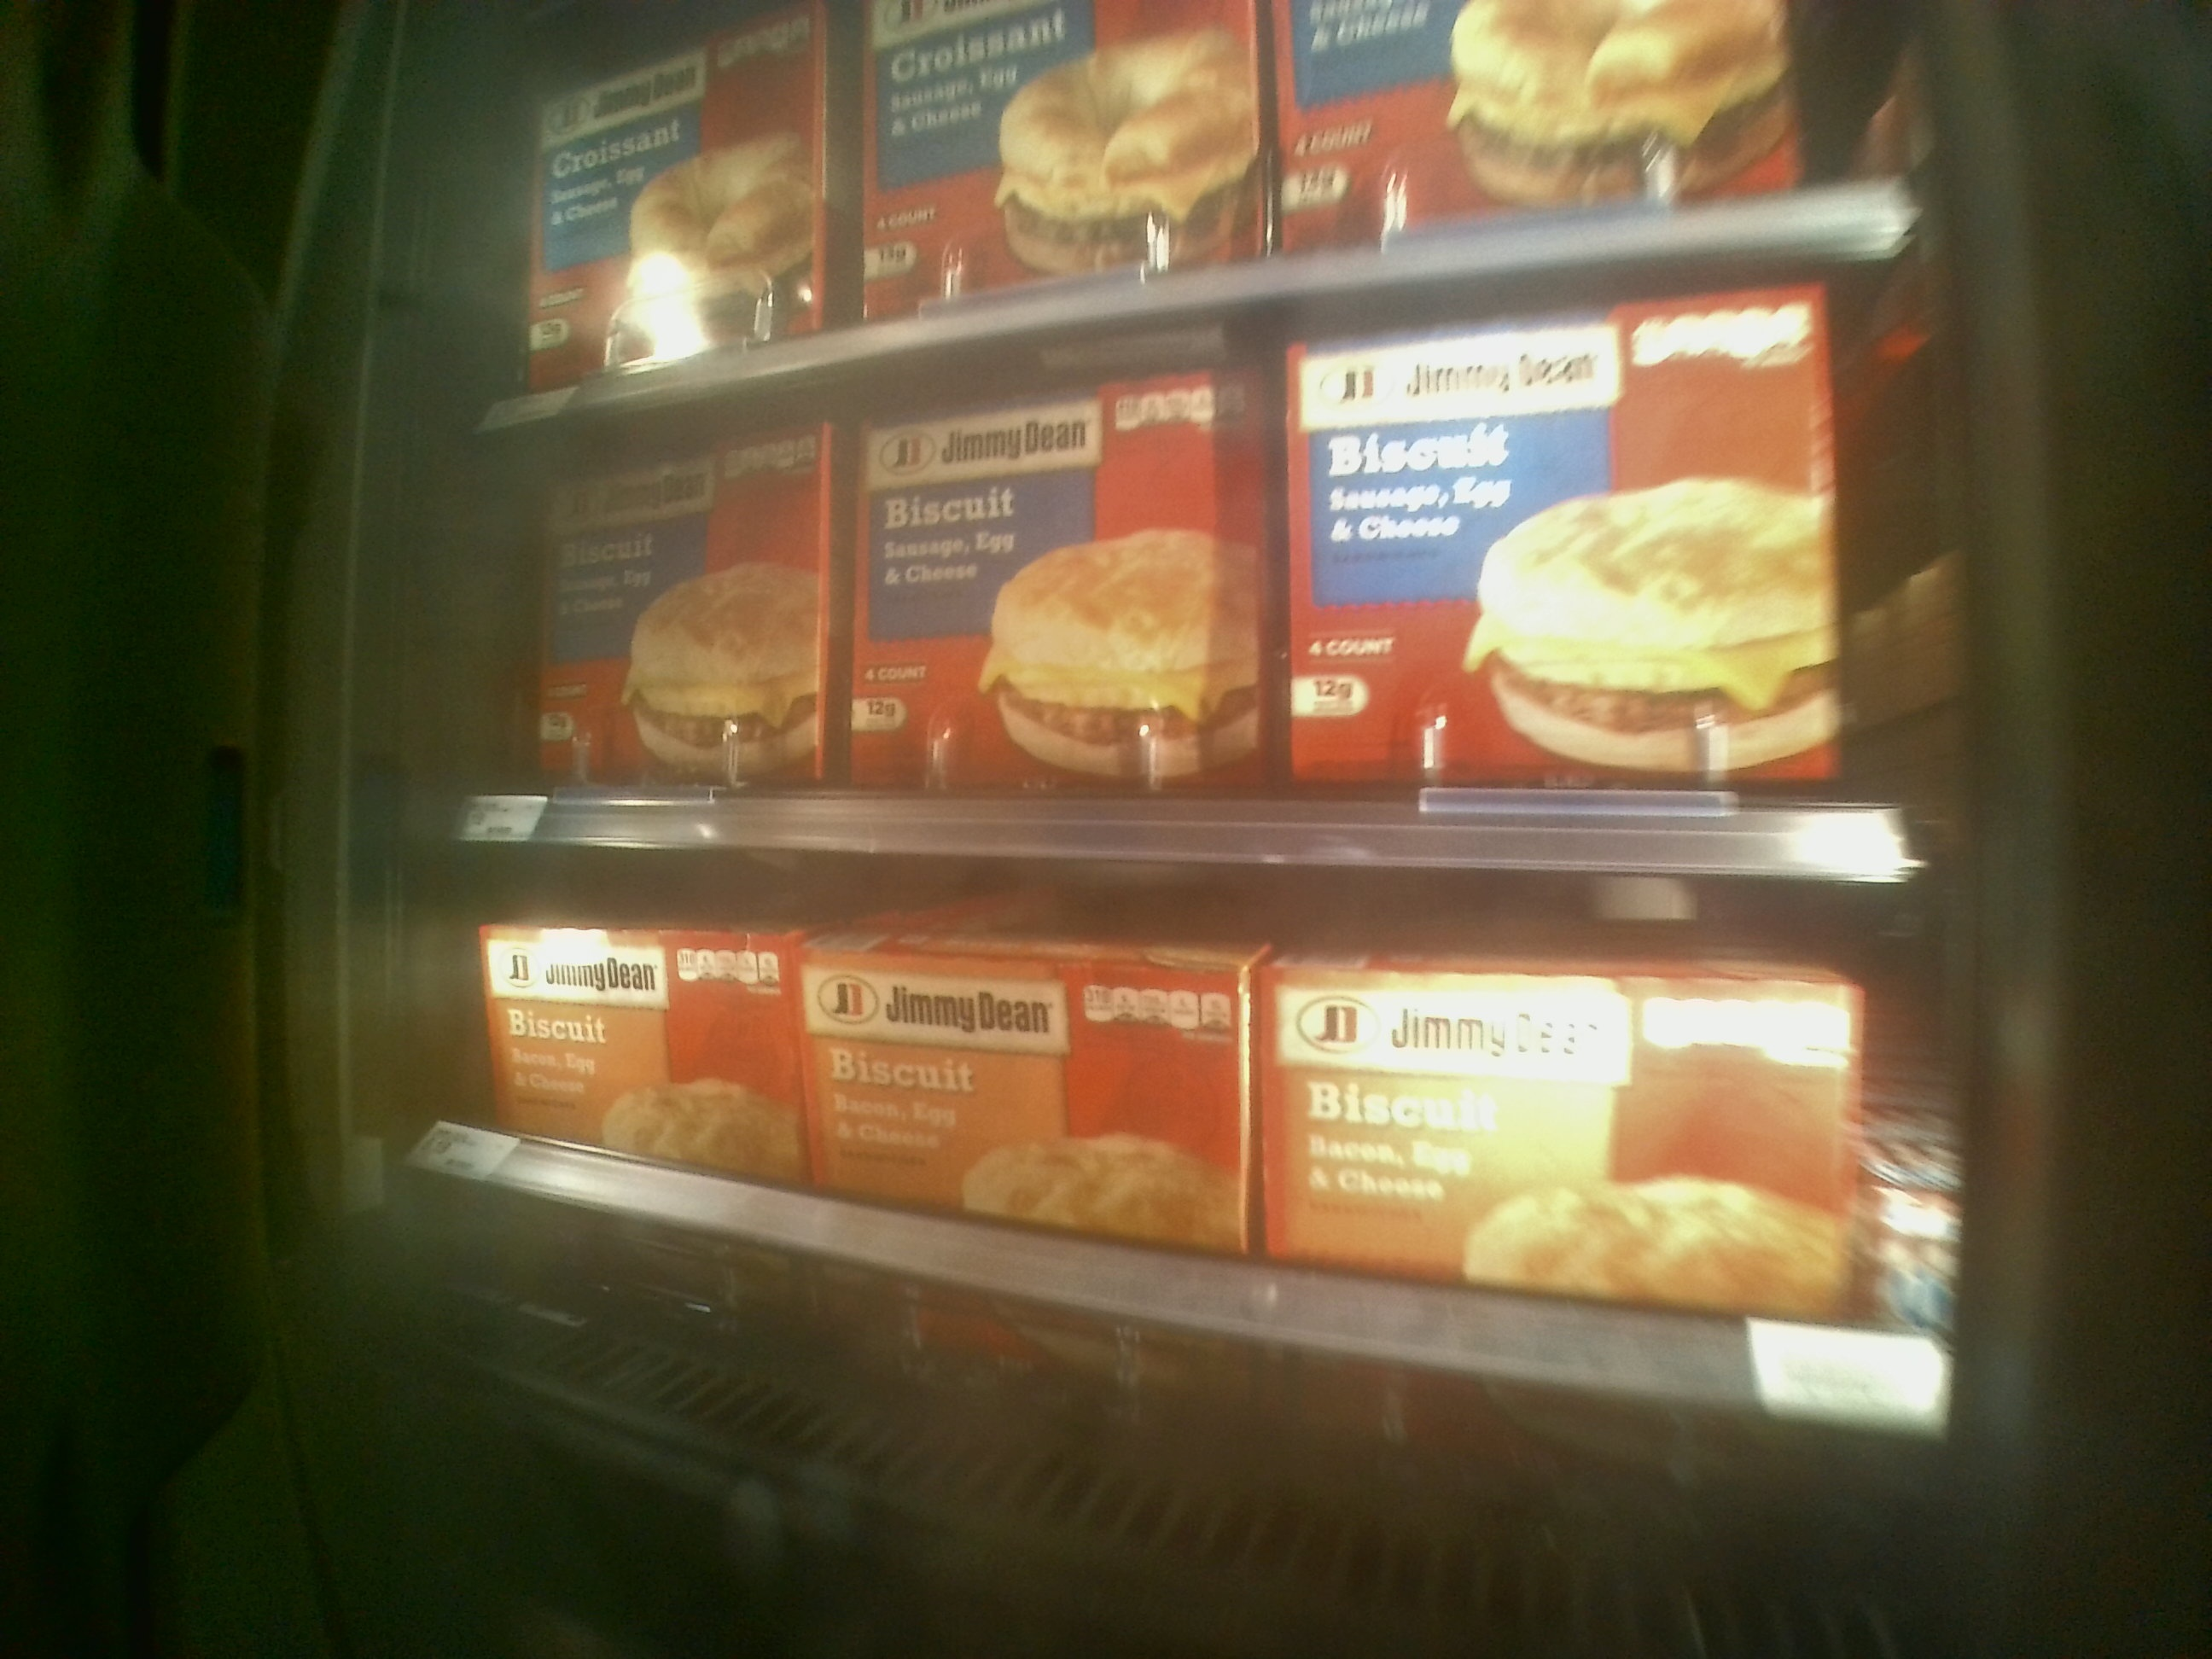shelf: (455, 237, 1946, 892), (451, 847, 1942, 1467)
